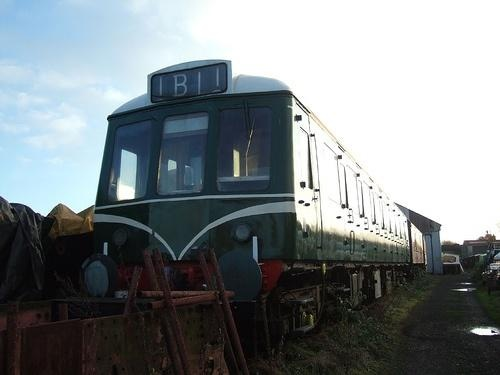train: (77, 58, 428, 353)
